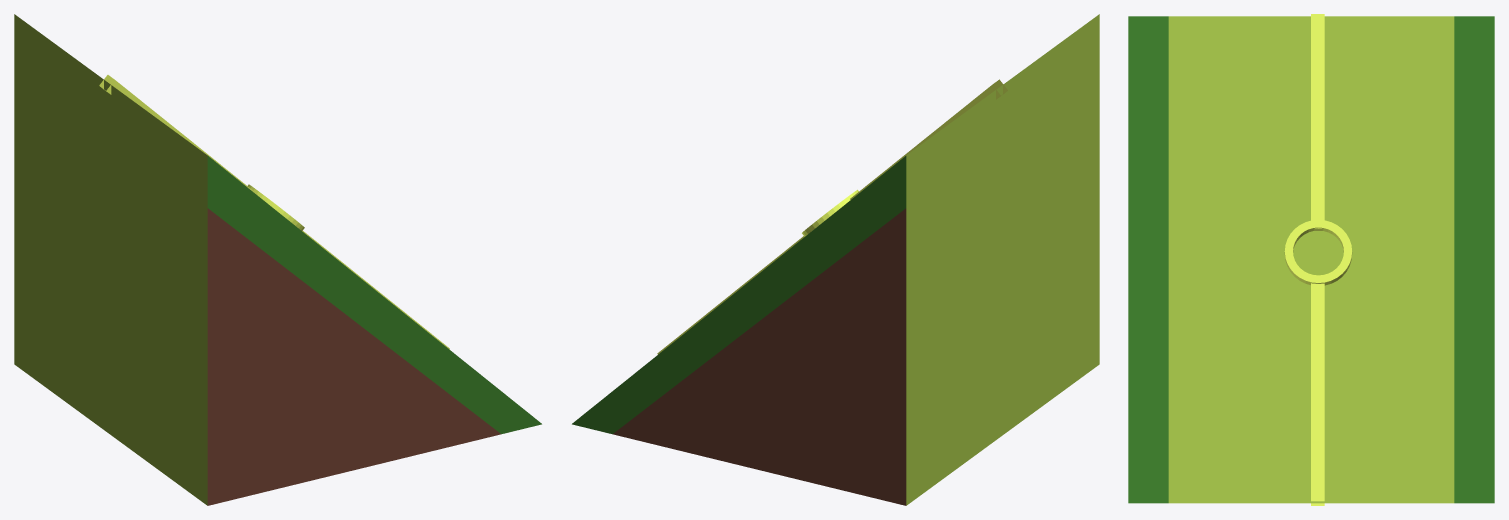
Rendered from Stair.fbx.
3 renders of one model, left to right at view 1: azimuth 30°, elevation 25°; view 2: azimuth 150°, elevation 25°; view 3: azimuth 270°, elevation 25°, orthographic. The views are drawn at different scales.
Visible parts, largest first — view 1: Cube.057; view 2: Cube.057; view 3: Cube.057.
Boxes of the visible parts, x1,y1,x2,y2 form: Cube.057: (14, 14, 541, 505); Cube.057: (572, 14, 1099, 505); Cube.057: (1128, 14, 1494, 505).
Size of the model in its own units: 205 by 205 by 200.
